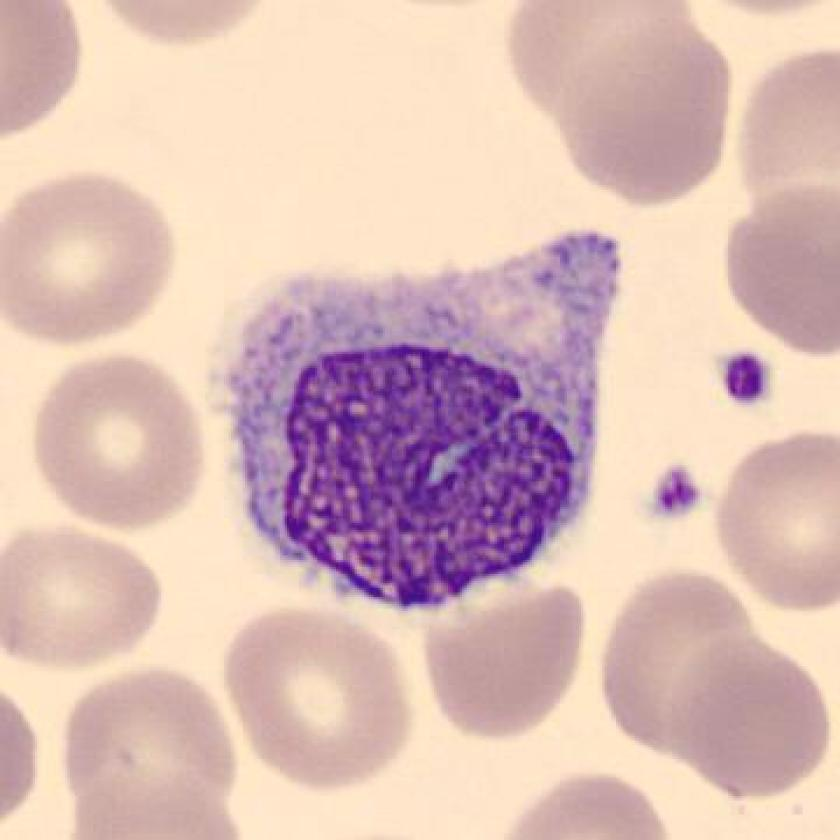monocyte: (209, 214, 640, 633)
